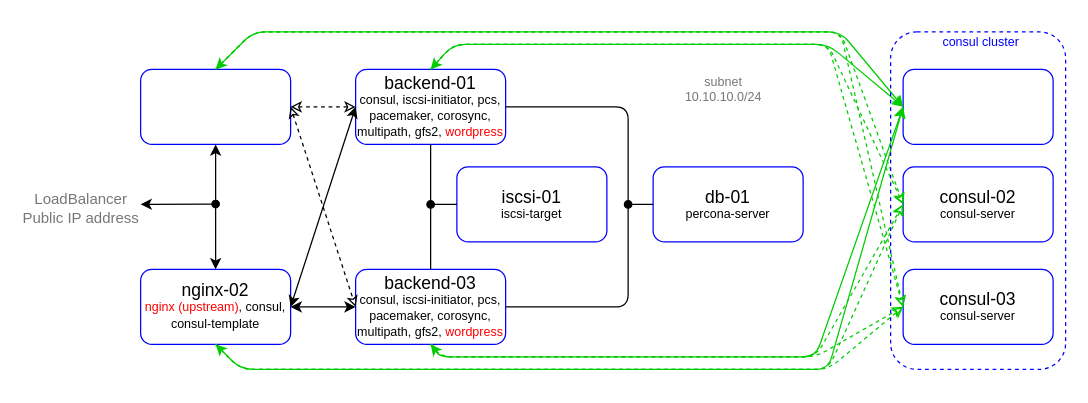
This 1088x403 diagram has some shape labels left out. The shapes that lost their labels are listed below. From the top down, each one's centre as x and y in pixels, then its label:
(x=215, y=106): nginx-01 nginx (upstream) , consul, consul-template
(x=977, y=106): consul-01 consul-server
